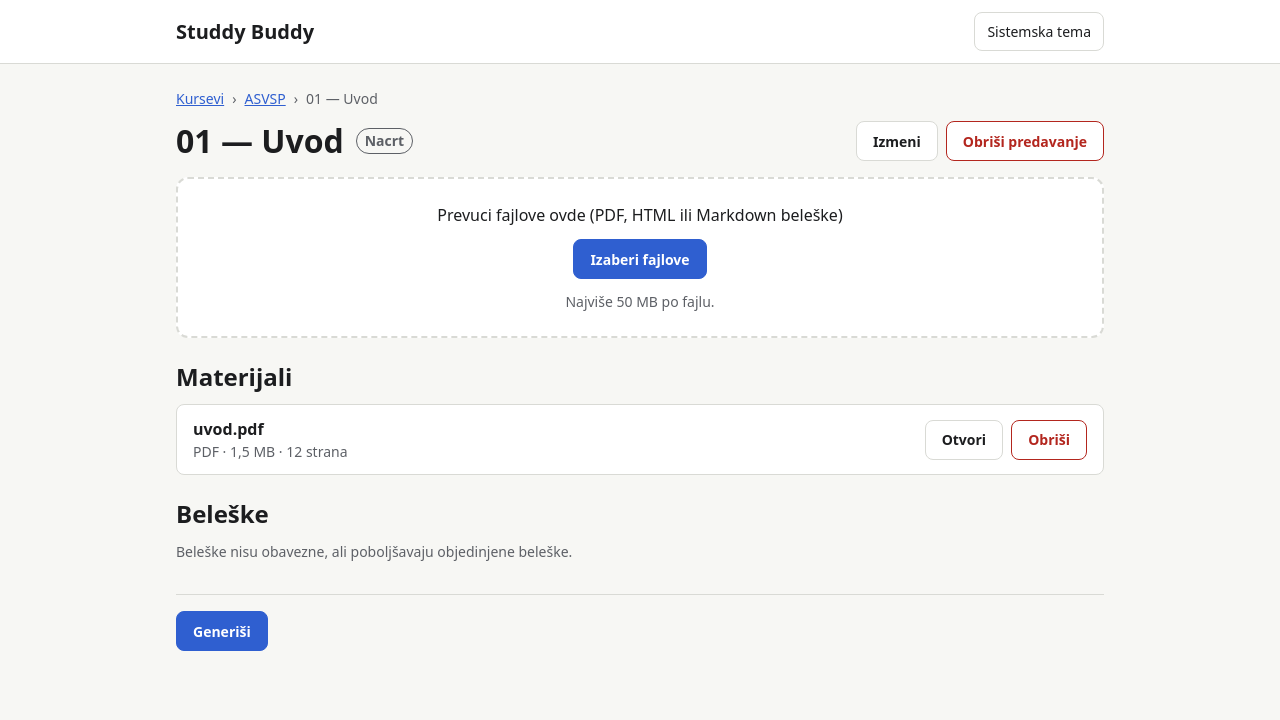
Test case: ClassPage › confirms before deleting a file
Click the button with aria-label "Obriši uvod.pdf" at (1049,440), box [1011,420,1087,460]
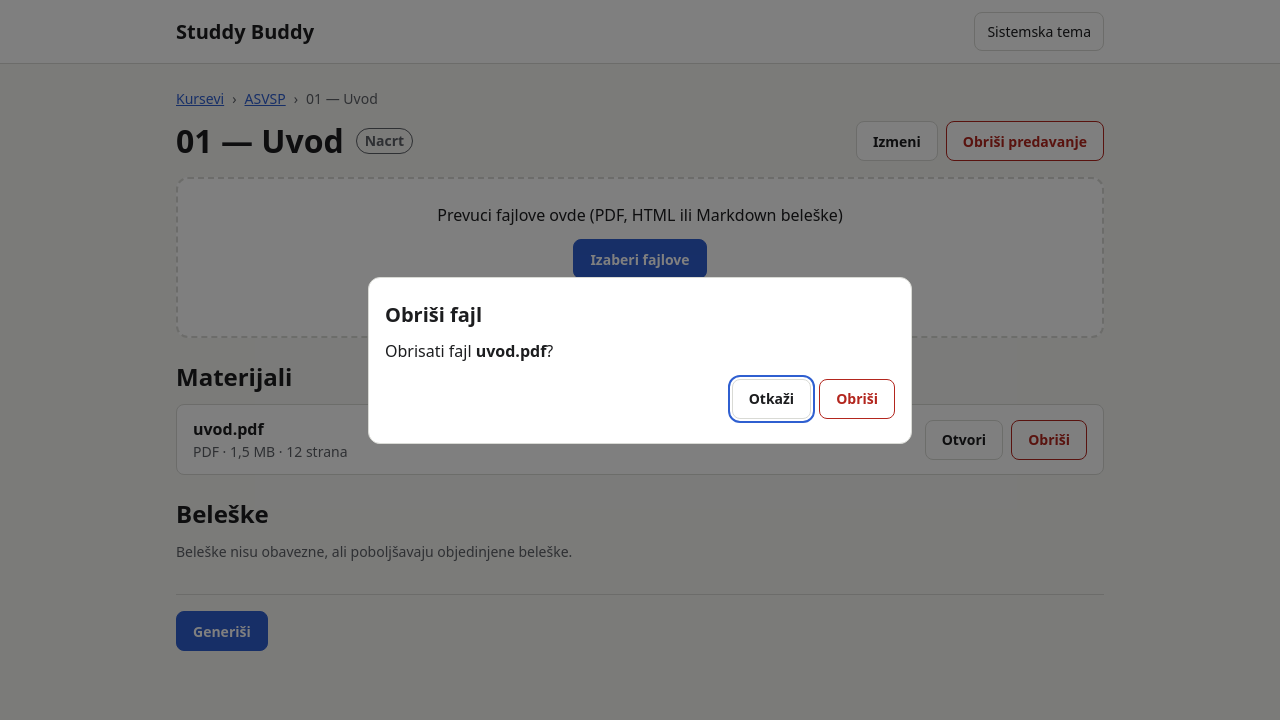
Click the button "Obriši" at (857,398), box [819,378,895,418]
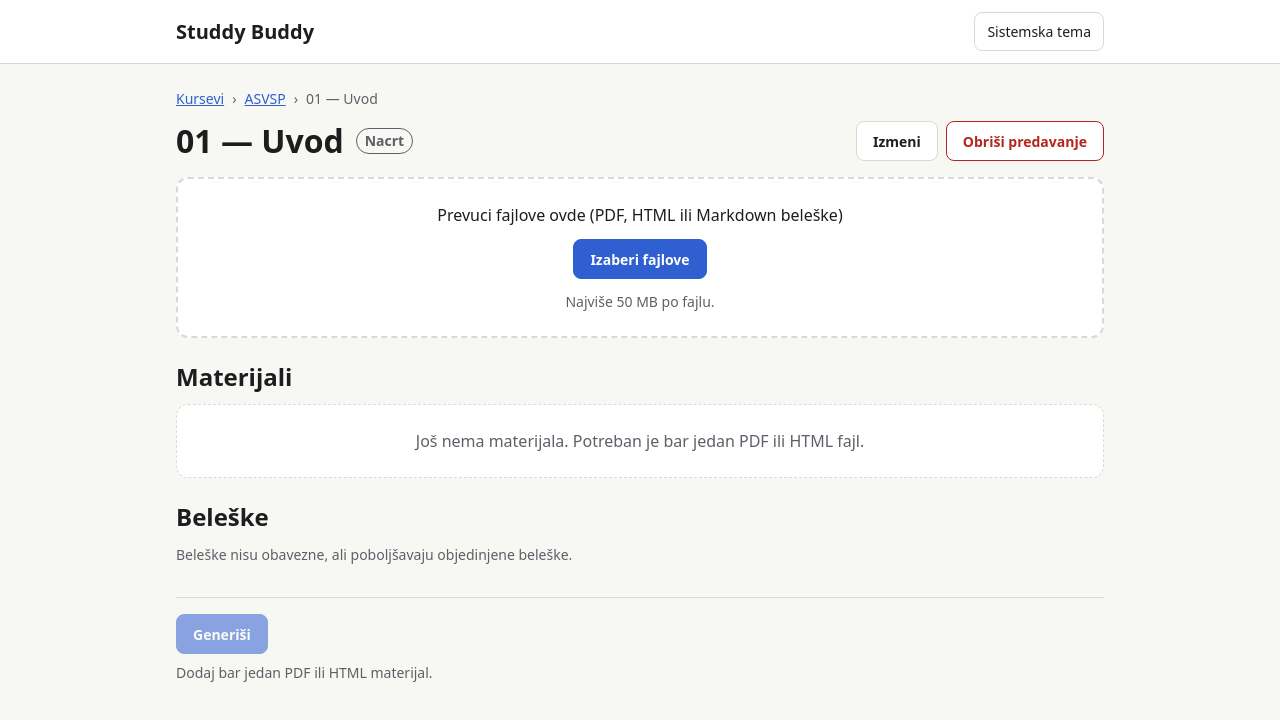
Check: the text "uvod.pdf" is gone
